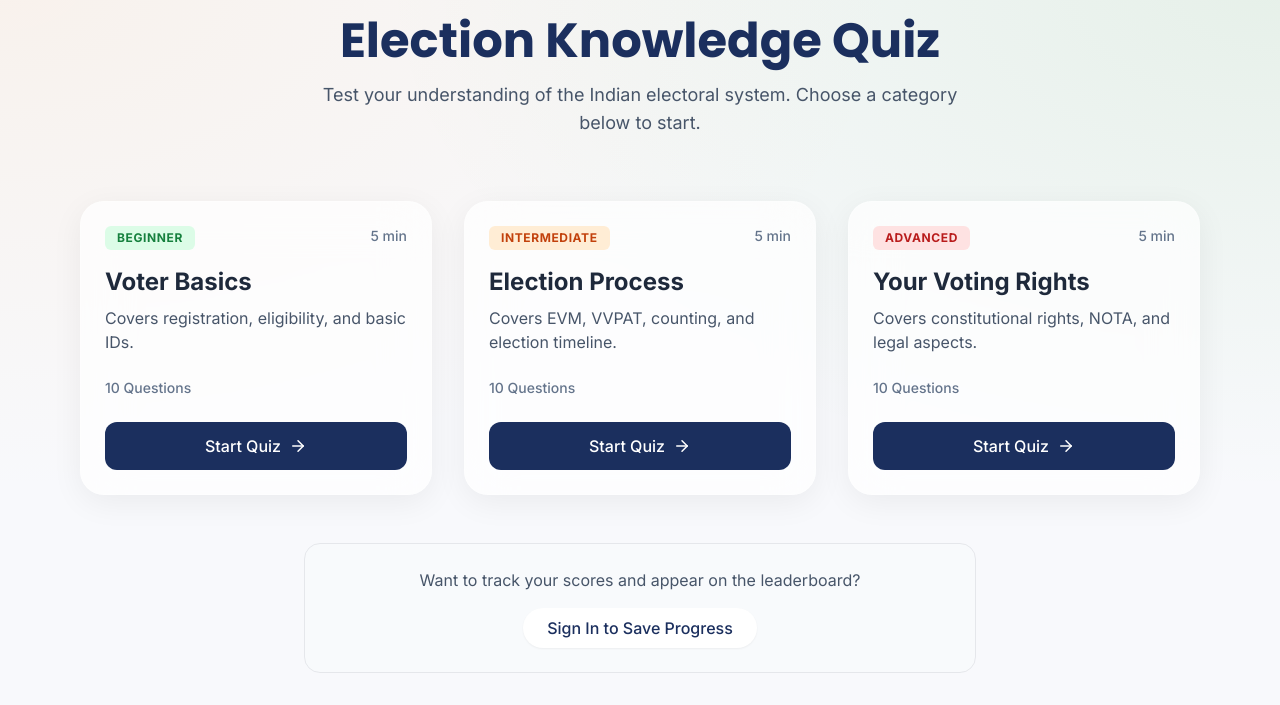
it: Quiz Page › Quiz Navigation › should advance to question 2 after clicking Next
Click the button "Start Quiz" below "Voter Basics": x=256, y=446 105,422 -> 407,470
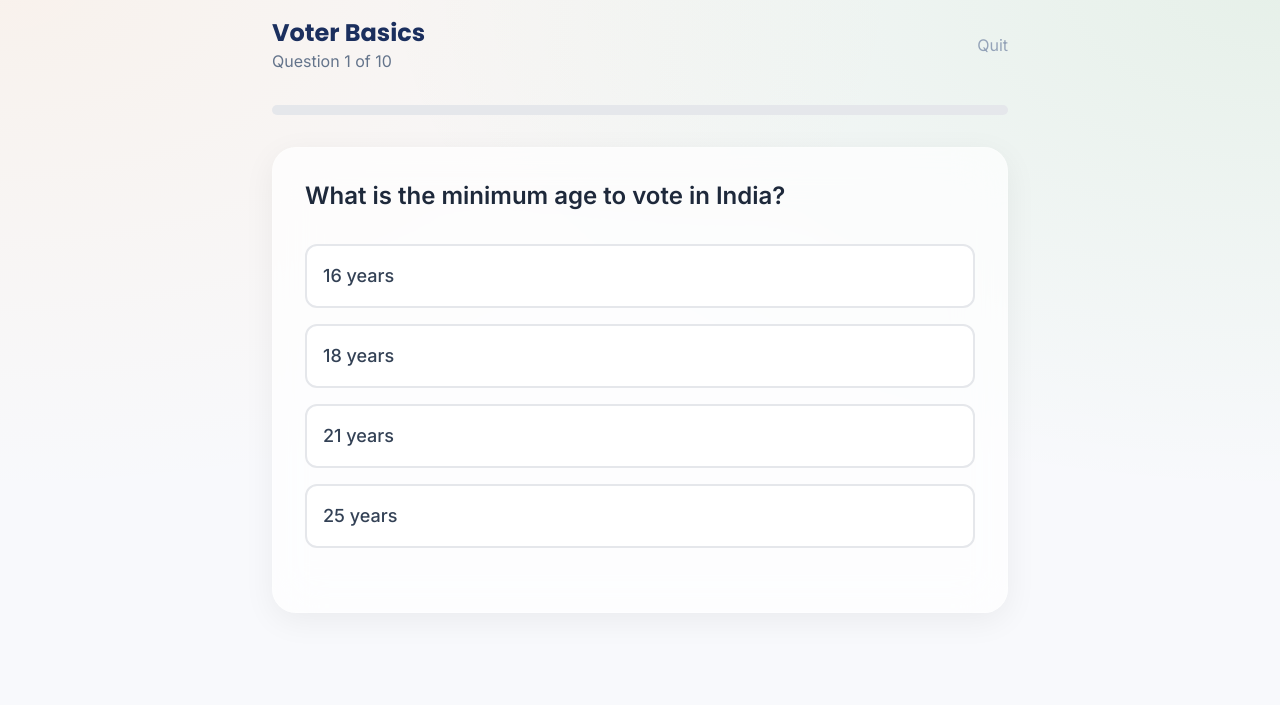
Check: the text "18 years" is shown, box 323,342 -> 394,370
Click the button "18 years": x=359, y=356 305,324 -> 975,388
(page scrolled)
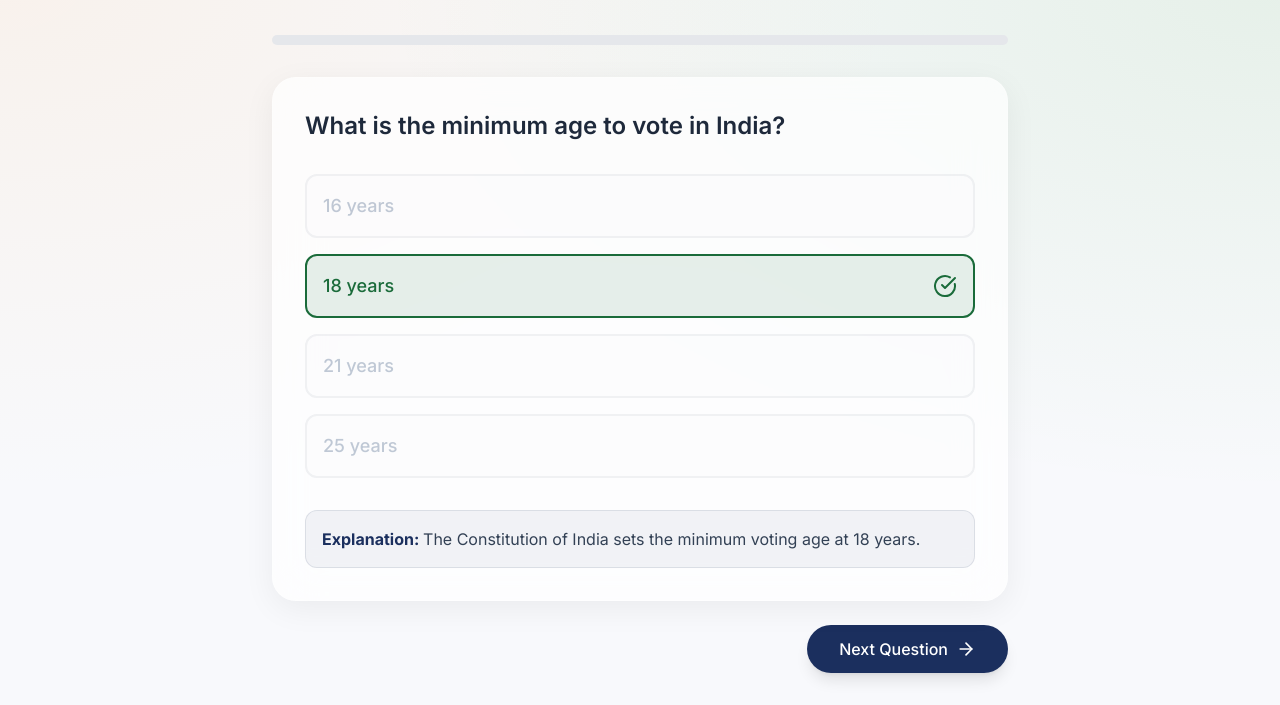
Check: the button "Next Question" is shown
Click the button "Next Question": x=908, y=649 807,625 -> 1008,673
(page scrolled)
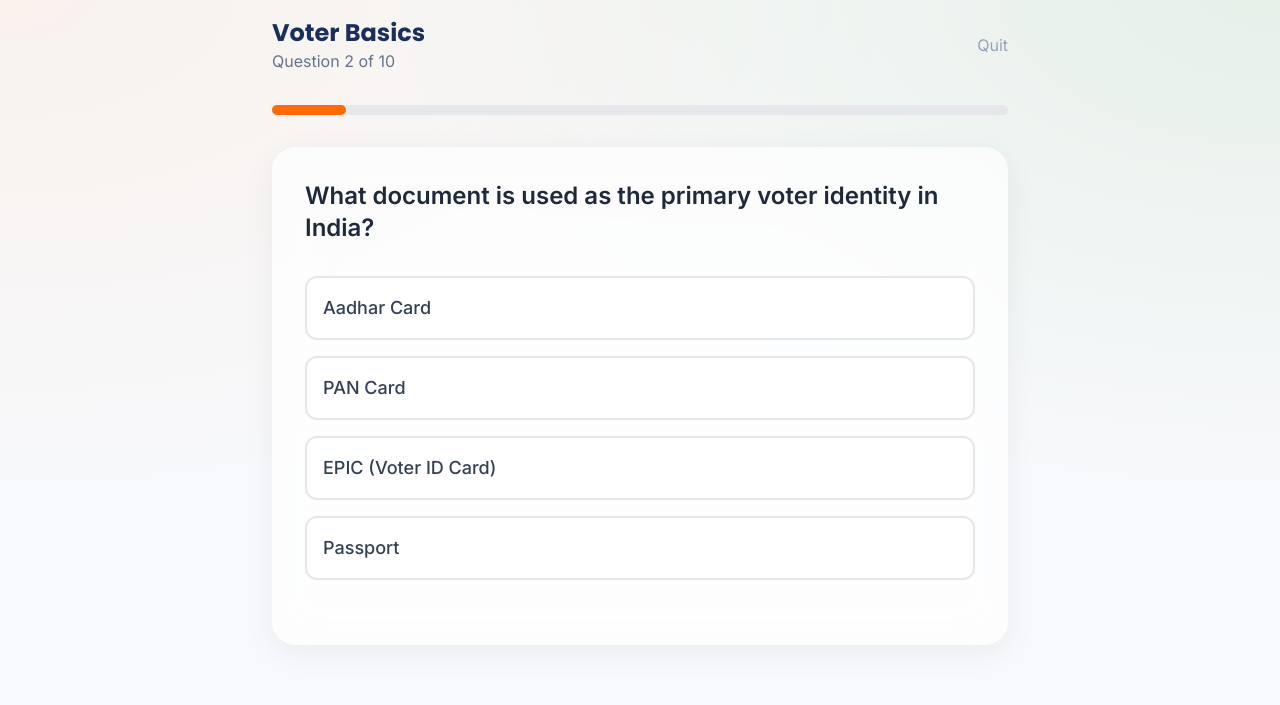
Check: the text "Question 2 of 10" is shown, box 272,51 -> 395,71
